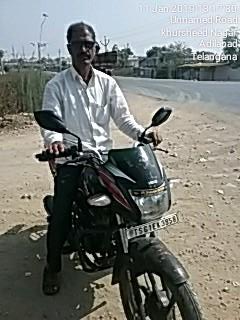plate: (122, 212, 185, 240)
